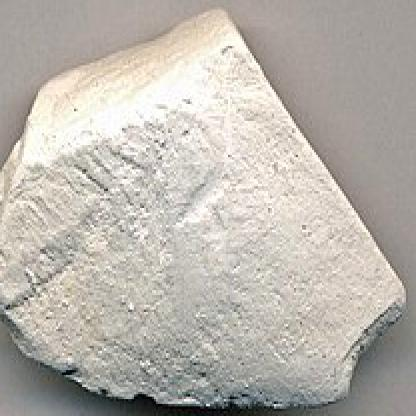Sedimentary_Chalk: (0, 7, 414, 414)
